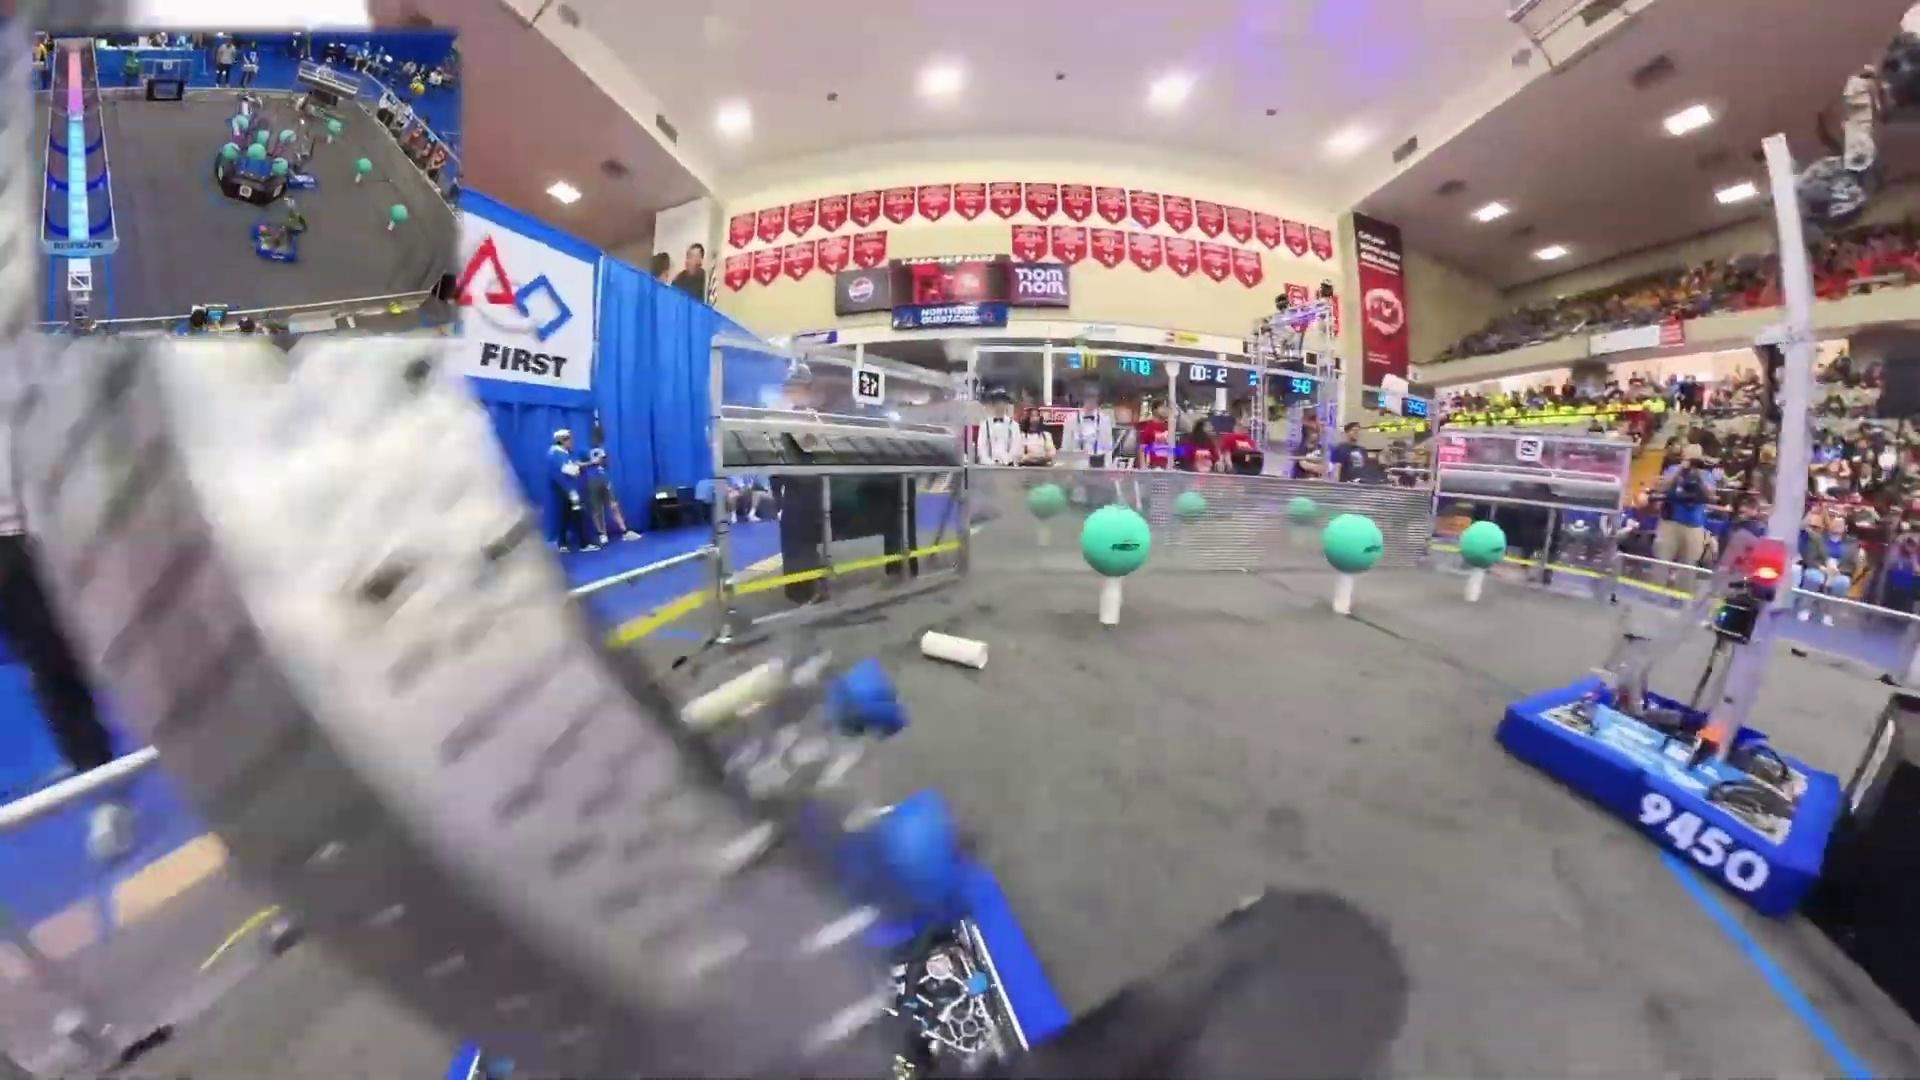robot: (1495, 0, 1920, 922), (252, 196, 309, 265), (286, 96, 318, 191), (227, 92, 264, 131)
